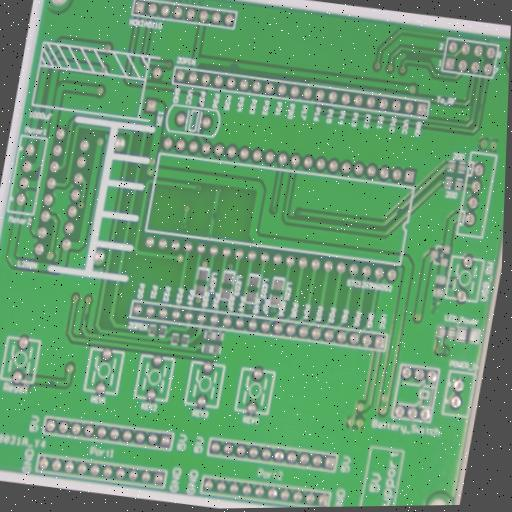mouse_bite: (42, 375, 61, 393), (227, 58, 244, 73), (79, 311, 93, 324), (209, 209, 221, 224), (394, 204, 406, 218)
